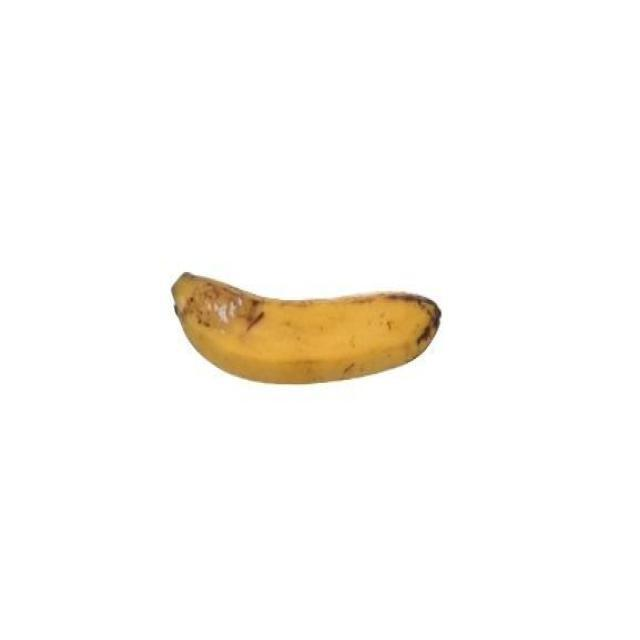Banana: (164, 266, 447, 390)
